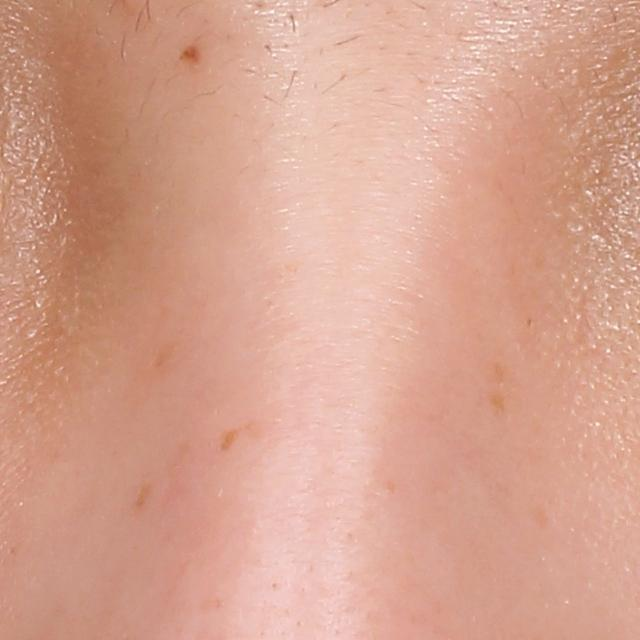melasma: (152, 341, 178, 371), (132, 479, 154, 512), (218, 427, 245, 453), (485, 389, 509, 417), (491, 360, 508, 383)
